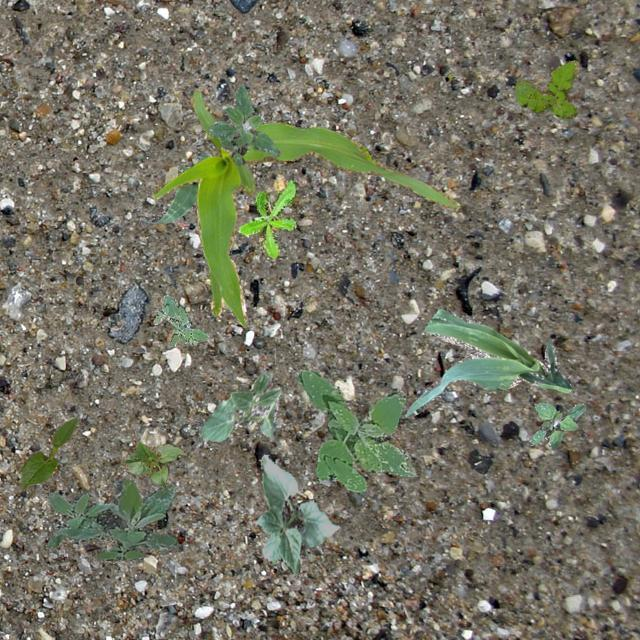crop: (152, 88, 460, 326), (404, 306, 570, 416), (252, 454, 338, 574), (198, 372, 280, 440), (137, 152, 210, 224), (20, 416, 76, 488), (122, 440, 184, 486)
weed: (298, 369, 417, 494), (44, 476, 178, 560), (208, 84, 278, 164), (237, 178, 296, 258), (514, 59, 578, 120), (152, 294, 208, 346), (528, 402, 584, 448)
